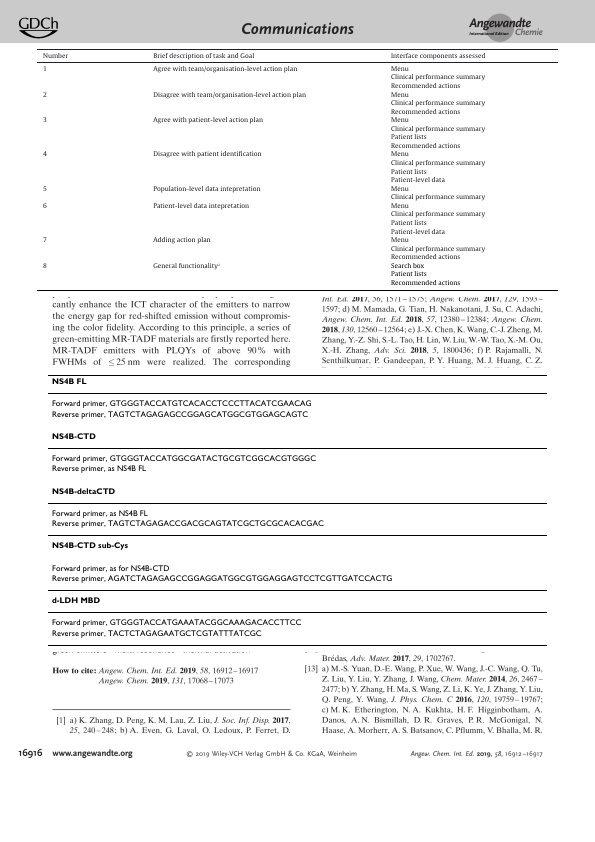borderless: (47, 373, 547, 645), (36, 48, 558, 290)
cell: (50, 574, 393, 584), (389, 117, 485, 151), (389, 151, 485, 185), (389, 203, 485, 237), (50, 519, 324, 529), (50, 454, 317, 464), (50, 410, 309, 420), (389, 91, 485, 117), (389, 66, 485, 91), (389, 237, 485, 262), (50, 400, 312, 409), (50, 619, 302, 628), (50, 629, 262, 639), (389, 263, 461, 288), (389, 185, 485, 202), (152, 91, 306, 100), (50, 564, 170, 574), (152, 66, 298, 74), (152, 151, 262, 160), (152, 185, 261, 194), (50, 509, 148, 519), (152, 52, 255, 61), (152, 117, 263, 125), (389, 52, 486, 61), (50, 465, 147, 474), (152, 203, 249, 211), (50, 542, 129, 551), (50, 487, 116, 497), (152, 262, 221, 271), (152, 237, 211, 245), (50, 432, 96, 442), (50, 597, 100, 606), (50, 378, 87, 387), (41, 52, 69, 61), (41, 91, 47, 100), (41, 151, 47, 160), (41, 185, 47, 194), (41, 66, 47, 74), (41, 117, 47, 125), (41, 203, 47, 211), (41, 237, 47, 245), (41, 263, 47, 271)
